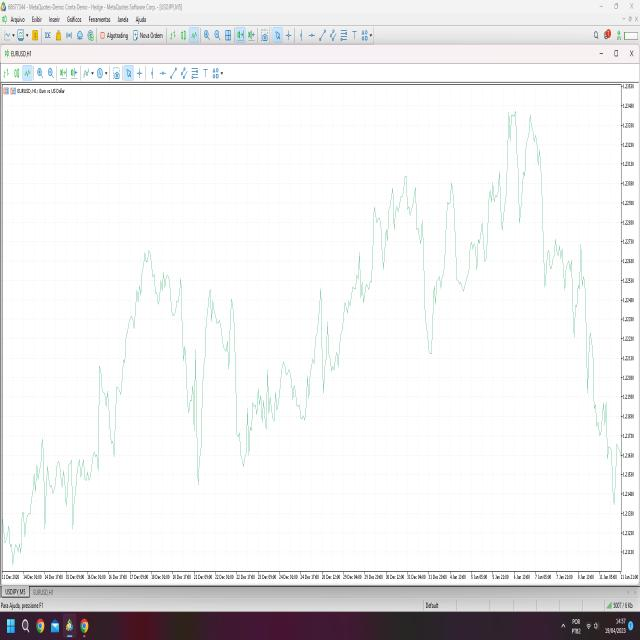bandeira_baixa: (532, 118, 577, 300)
topo_duplo: (202, 284, 239, 426)
